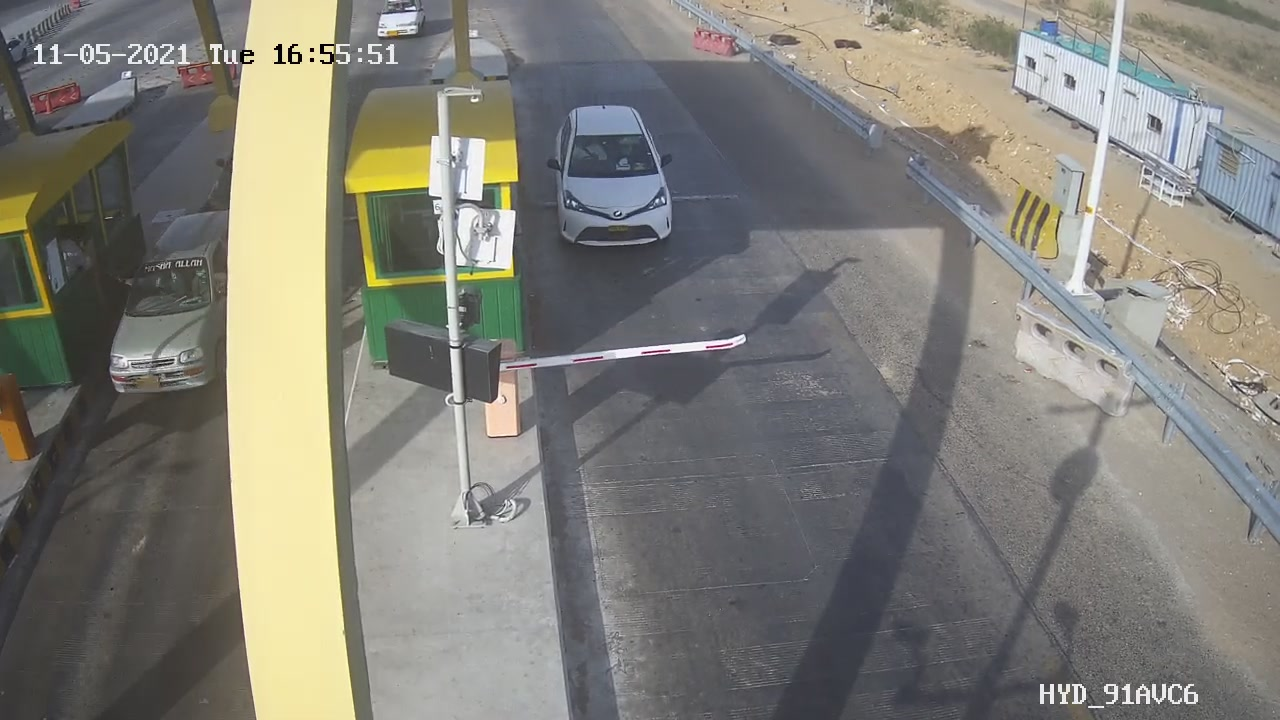F1: (534, 87, 696, 268)
